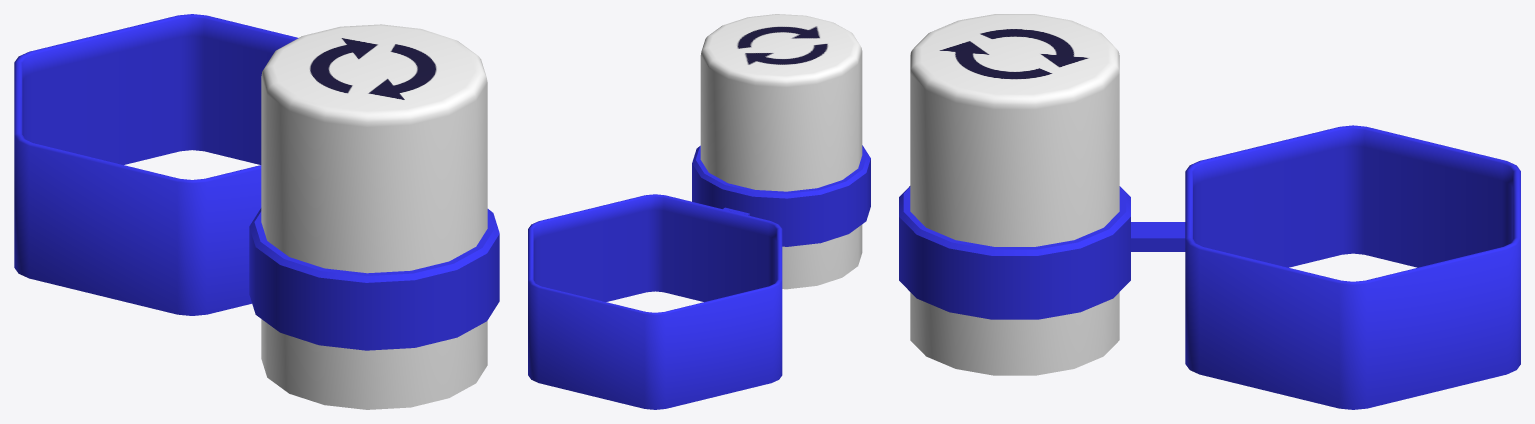
The model's file is hex_GroundReverse.fbx.
3 views of the same model, side by side, from view 1: azimuth 30°, elevation 25°; view 2: azimuth 150°, elevation 25°; view 3: azimuth 270°, elevation 25° (orthographic). The views are drawn at different scales.
Parts seen in each view (by area): view 1: hex_GroundReverse_Button, hex_GroundReverse_handle, hex_GroundReverse; view 2: hex_GroundReverse_handle, hex_GroundReverse_Button, hex_GroundReverse; view 3: hex_GroundReverse_handle, hex_GroundReverse_Button, hex_GroundReverse.
Part boxes in pixels (box(x1,y1,x2,y2)): hex_GroundReverse_Button: box(261, 24, 487, 409); hex_GroundReverse_handle: box(14, 14, 297, 315); hex_GroundReverse: box(249, 208, 499, 350); hex_GroundReverse_handle: box(528, 194, 782, 409); hex_GroundReverse_Button: box(700, 14, 862, 289); hex_GroundReverse: box(692, 145, 870, 246); hex_GroundReverse_handle: box(1131, 125, 1520, 409); hex_GroundReverse_Button: box(910, 14, 1119, 375); hex_GroundReverse: box(899, 186, 1130, 319).
Bounding box in the file's own units: 99.01 × 80 × 163.
Materials: 2 (1 with a texture image).
